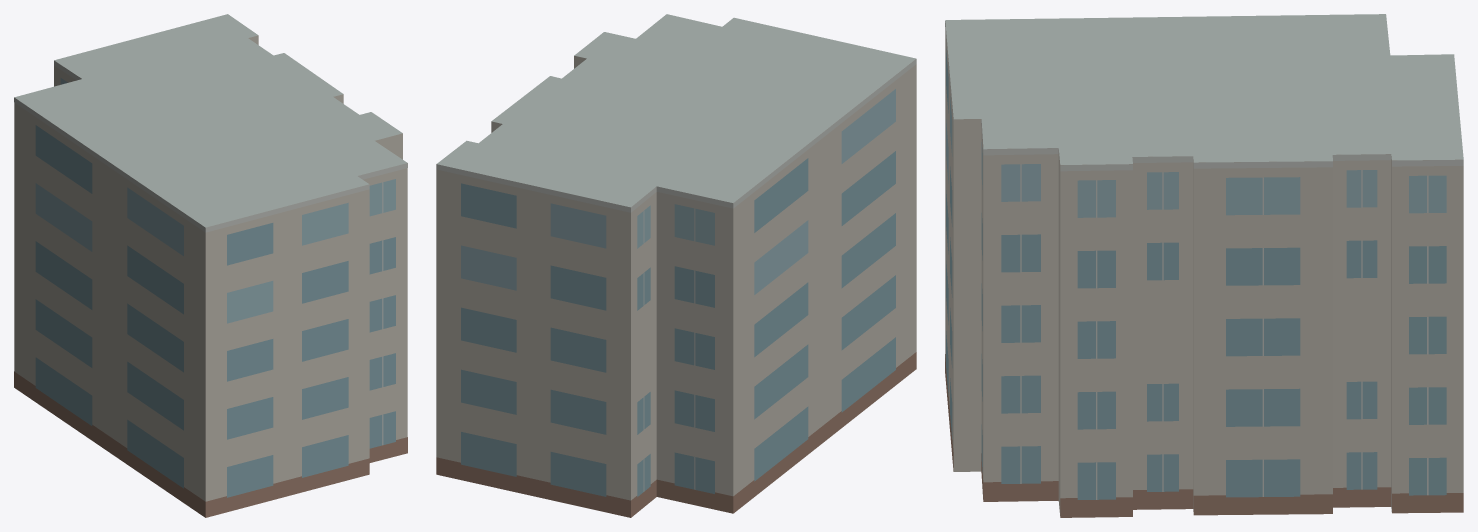
File: survey-upis-32846196.glb
3 renders of one model, left to right at view 1: azimuth 30°, elevation 25°; view 2: azimuth 150°, elevation 25°; view 3: azimuth 270°, elevation 25°, orthographic. The views are drawn at different scales.
Parts seen in each view (by area): view 1: survey-upis-32846196.tmp; view 2: survey-upis-32846196.tmp; view 3: survey-upis-32846196.tmp.
Boxes of the visible parts, bbox=[...] form: survey-upis-32846196.tmp: bbox=[14, 14, 407, 517]; survey-upis-32846196.tmp: bbox=[436, 14, 916, 517]; survey-upis-32846196.tmp: bbox=[945, 14, 1463, 517].
Bounding box in the file's own units: 12.87 × 14 × 18.66.
